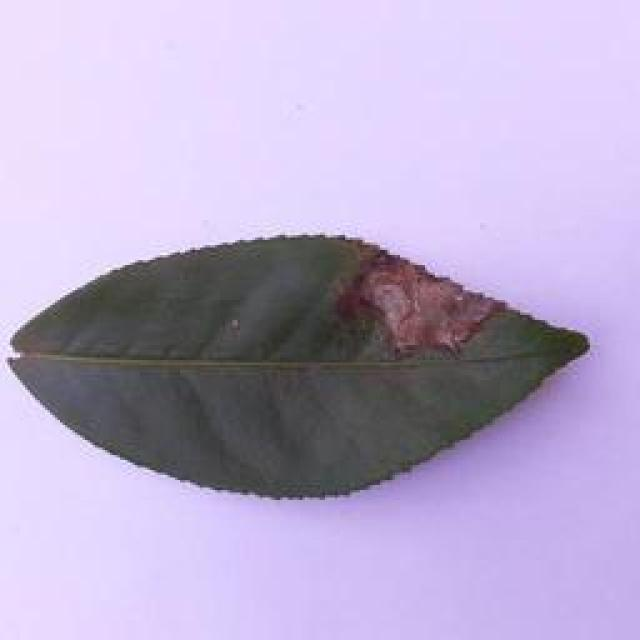Gray Blight: (5, 221, 593, 495)
